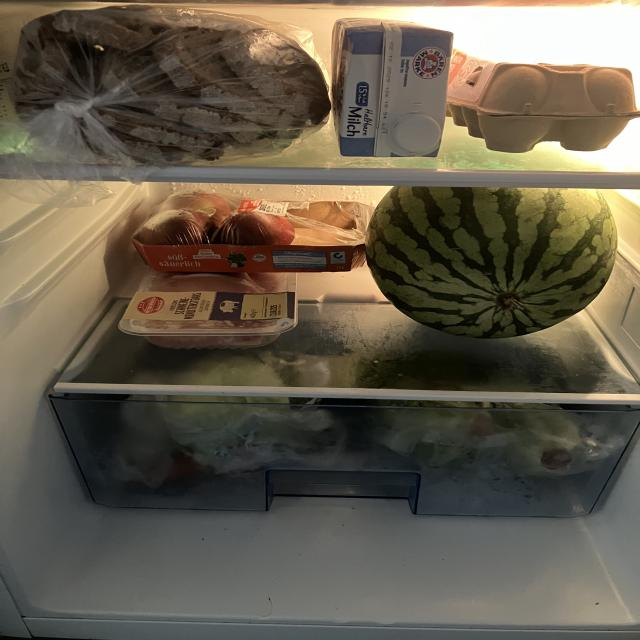Apples: (134, 188, 373, 267)
Eggs: (449, 43, 640, 154)
Milk: (330, 16, 450, 160)
Pork: (116, 270, 303, 351)
Vegetable: (367, 351, 630, 482), (122, 355, 340, 468)
Watermelon: (370, 182, 623, 343)
bread: (7, 6, 330, 160)
